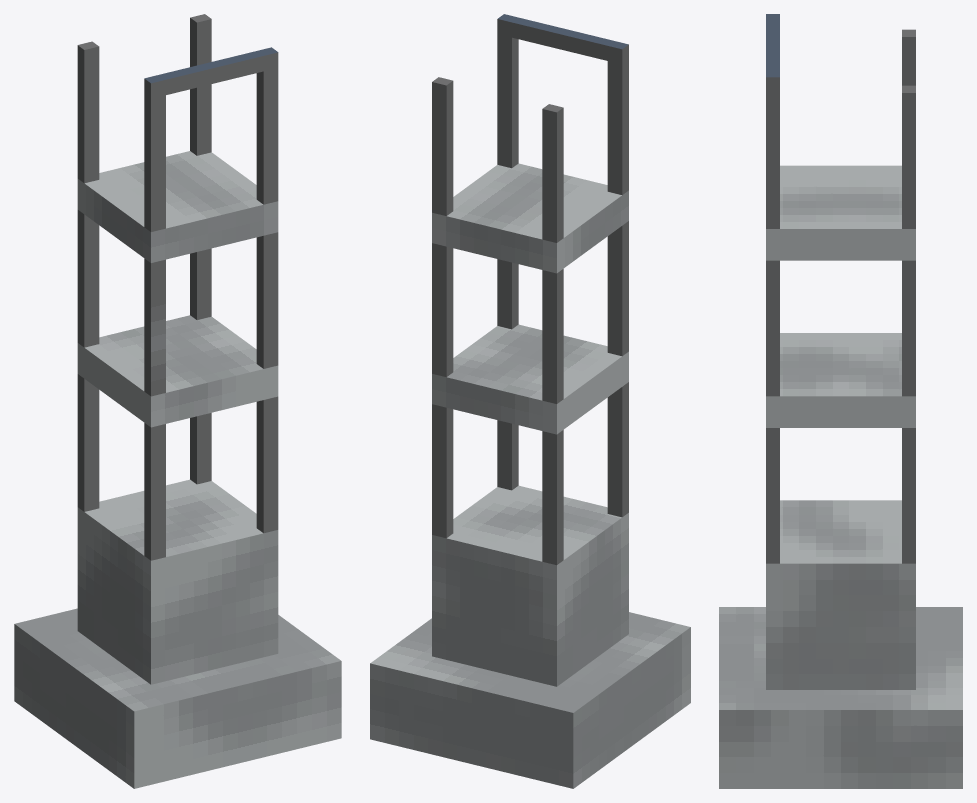
The model's file is buildingConstruction.fbx.
The picture shows the model from 3 angles, left to right: view 1: azimuth 30°, elevation 25°; view 2: azimuth 150°, elevation 25°; view 3: azimuth 270°, elevation 25°; orthographic projection. The views are drawn at different scales.
Visible parts, largest first — view 1: cuboid; view 2: cuboid; view 3: cuboid.
Boxes of the visible parts, x1,y1,x2,y2 form: cuboid: (14,14,341,788); cuboid: (370,14,690,788); cuboid: (719,14,962,788).
Size of the model in its own units: 87.5 by 274 by 87.5.
Materials: 1 (1 with a texture image).
